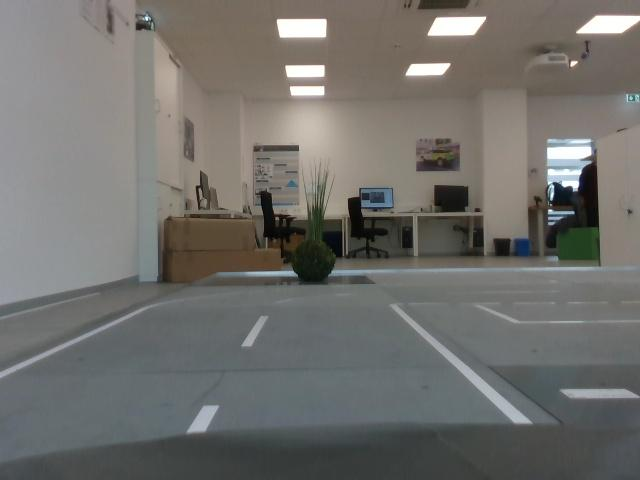potted plant: (297, 165, 337, 238), (293, 239, 338, 279)
